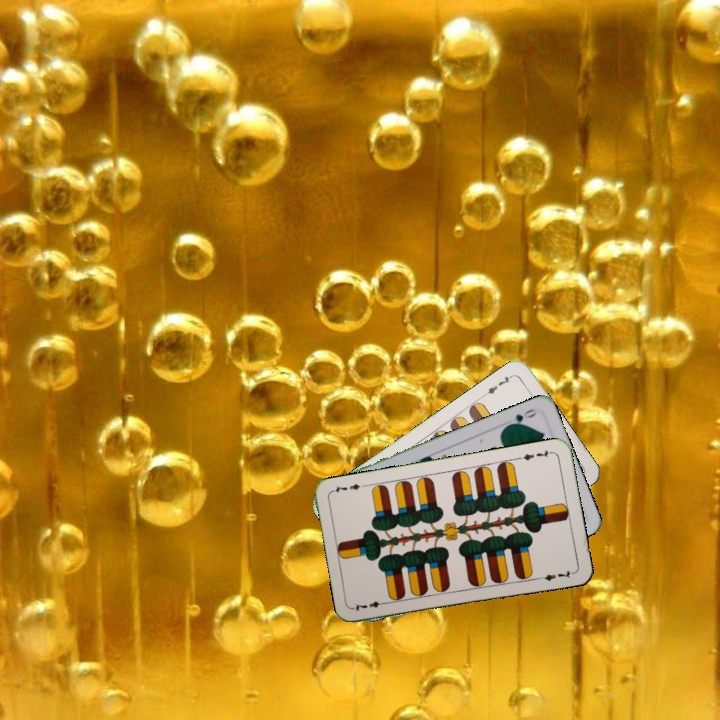E7: (480, 370, 516, 398), (515, 446, 555, 463), (350, 597, 390, 614)
GO: (503, 405, 539, 429)
